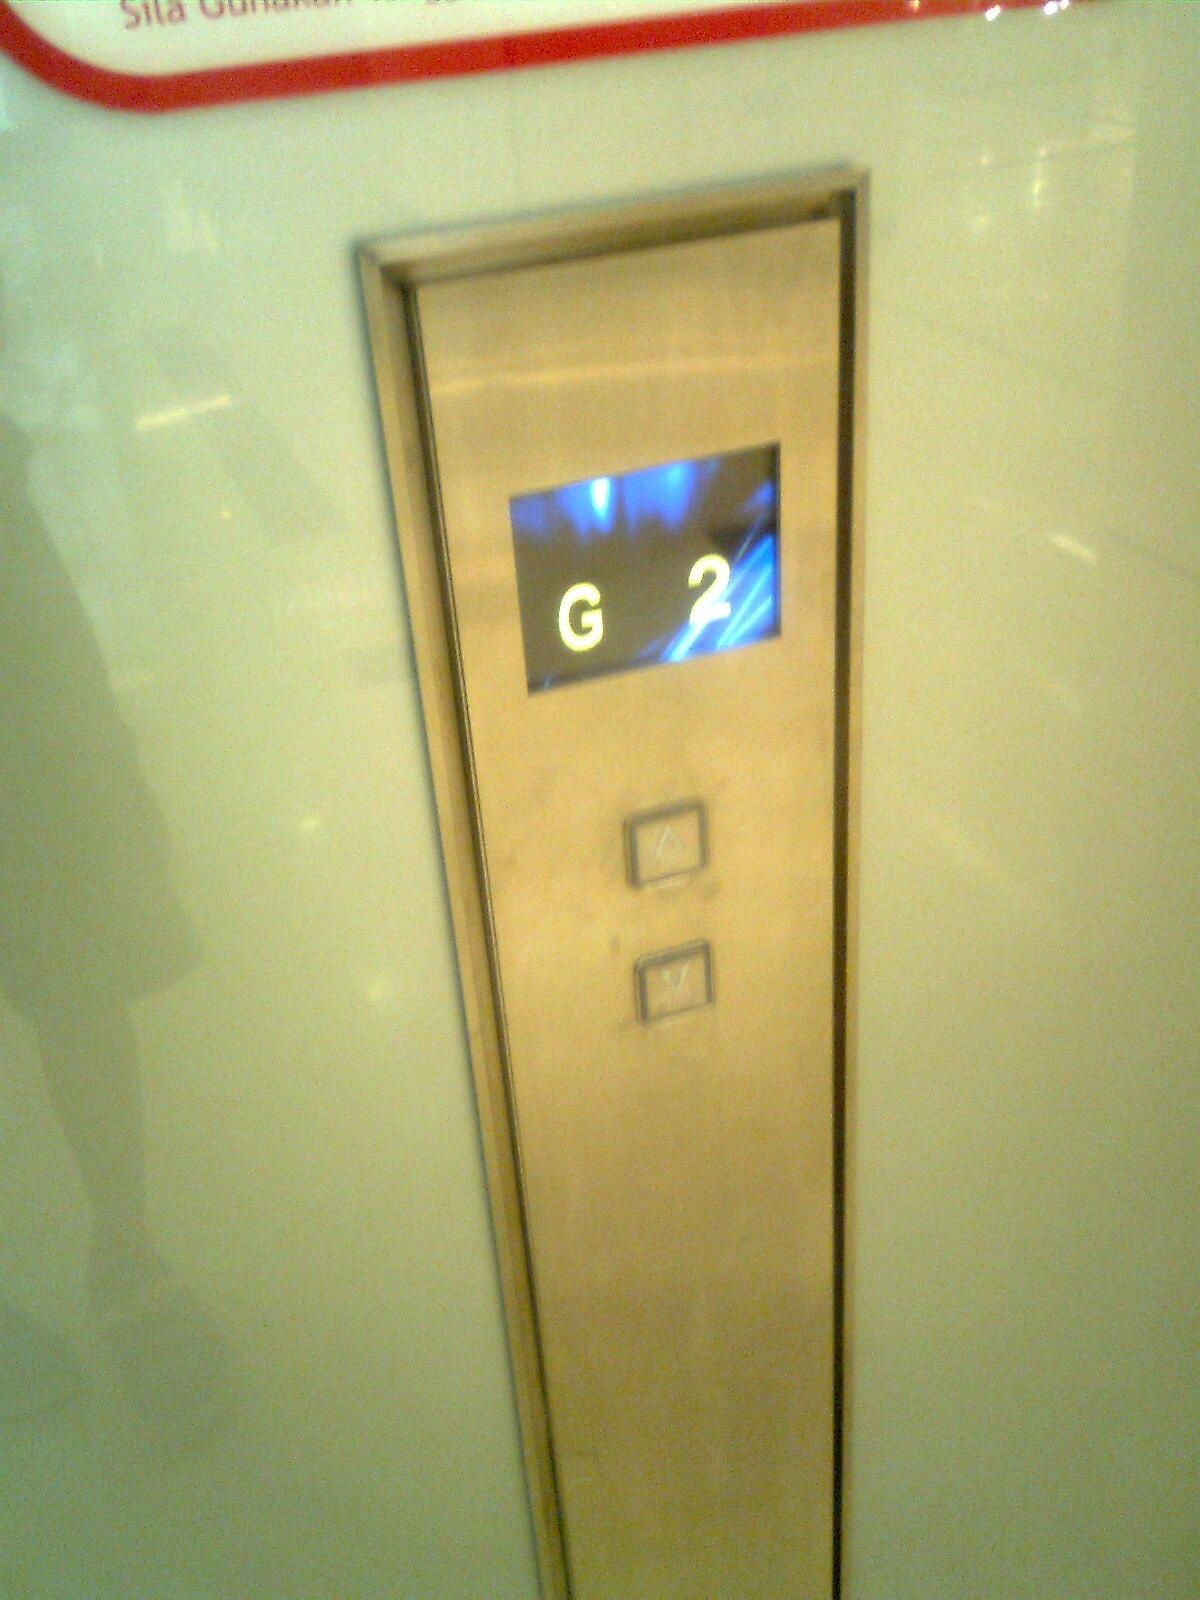down: (628, 934, 720, 1033)
led: (500, 433, 790, 704)
up: (614, 792, 715, 893)
